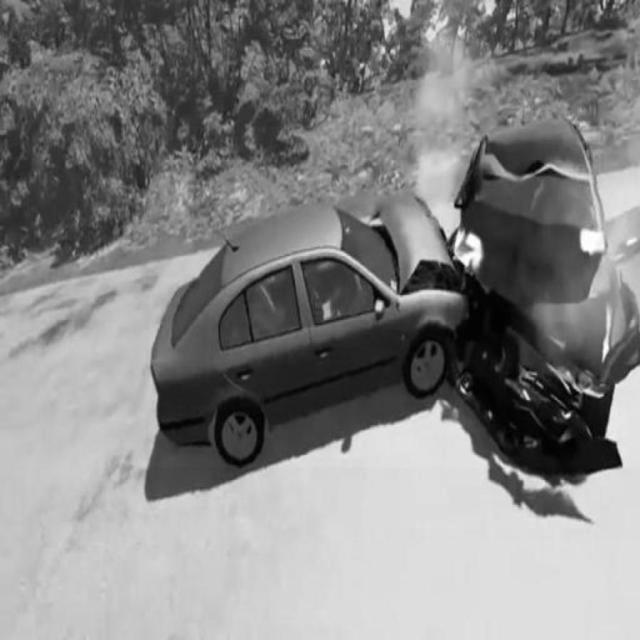accident: (149, 126, 639, 466)
